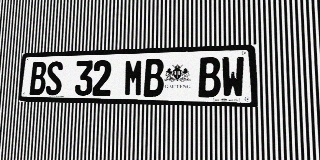2: (92, 60, 111, 96)
3: (75, 60, 93, 96)
B: (198, 57, 221, 98), (143, 58, 164, 97), (29, 62, 47, 95)
M: (124, 59, 144, 96)
S: (45, 61, 63, 95)
W: (221, 56, 245, 98)
